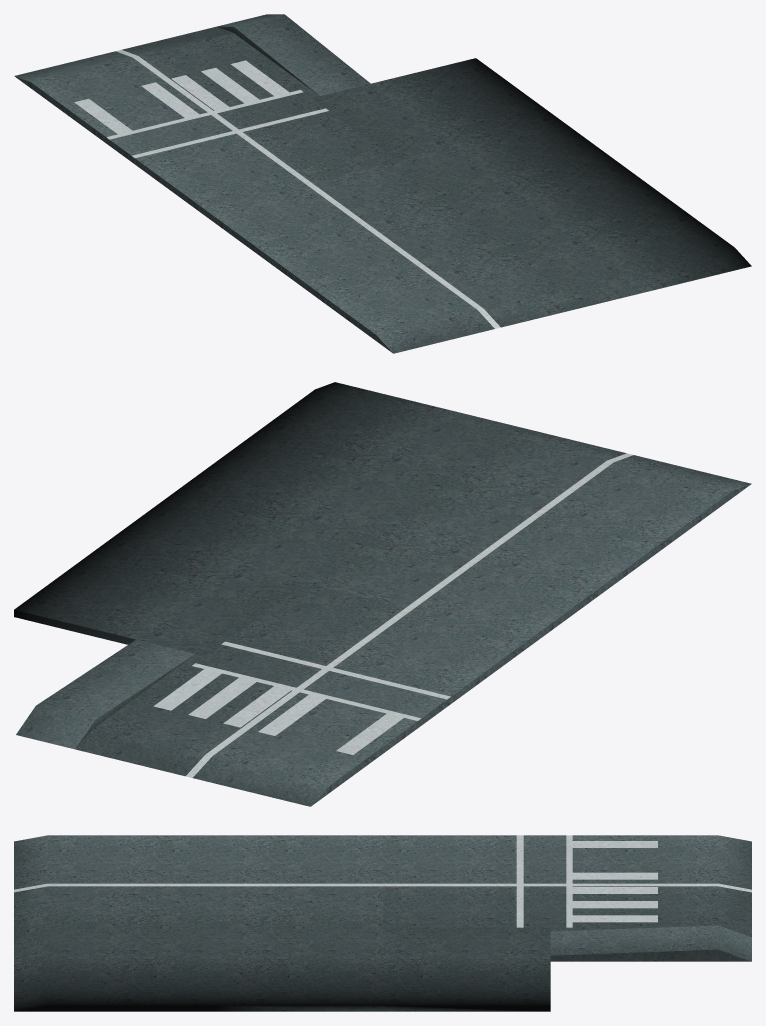
File: ROMEN_LEFT02.glb
The picture shows the model from 3 angles, top to bottom: view 1: azimuth 30°, elevation 25°; view 2: azimuth 150°, elevation 25°; view 3: azimuth 270°, elevation 25°; orthographic projection. The views are drawn at different scales.
Parts seen in each view (by area): view 1: Model; view 2: Model; view 3: Model.
Part boxes in pixels (x1,y1,x2,y2): Model: (14, 14, 751, 353); Model: (14, 382, 751, 806); Model: (14, 835, 751, 1011).
Bounding box in the file's own units: 60 × 2 × 110.
Materials: 2 (2 with a texture image).
